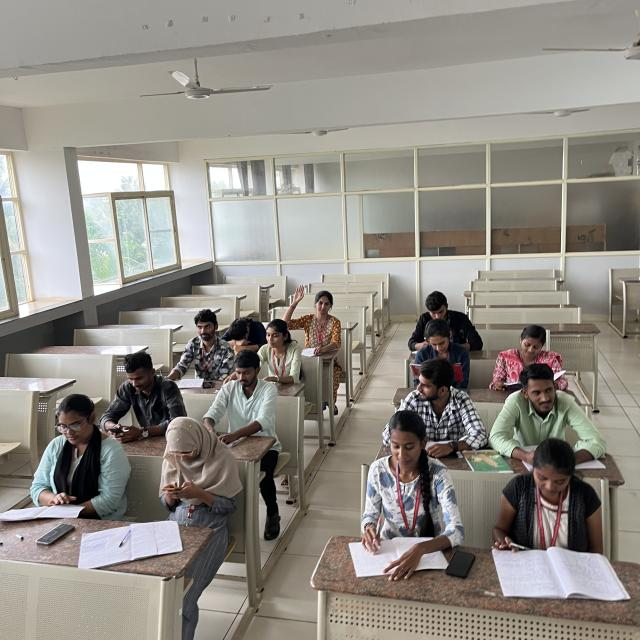Hand Rising: (284, 280, 358, 356)
Reading: (342, 418, 458, 589), (4, 384, 132, 518), (495, 452, 603, 577), (490, 324, 590, 399), (414, 324, 483, 392)
Sleeping: (219, 306, 272, 359)
Using Phone: (153, 415, 243, 527), (91, 352, 185, 440)
Writing: (151, 312, 232, 390)
